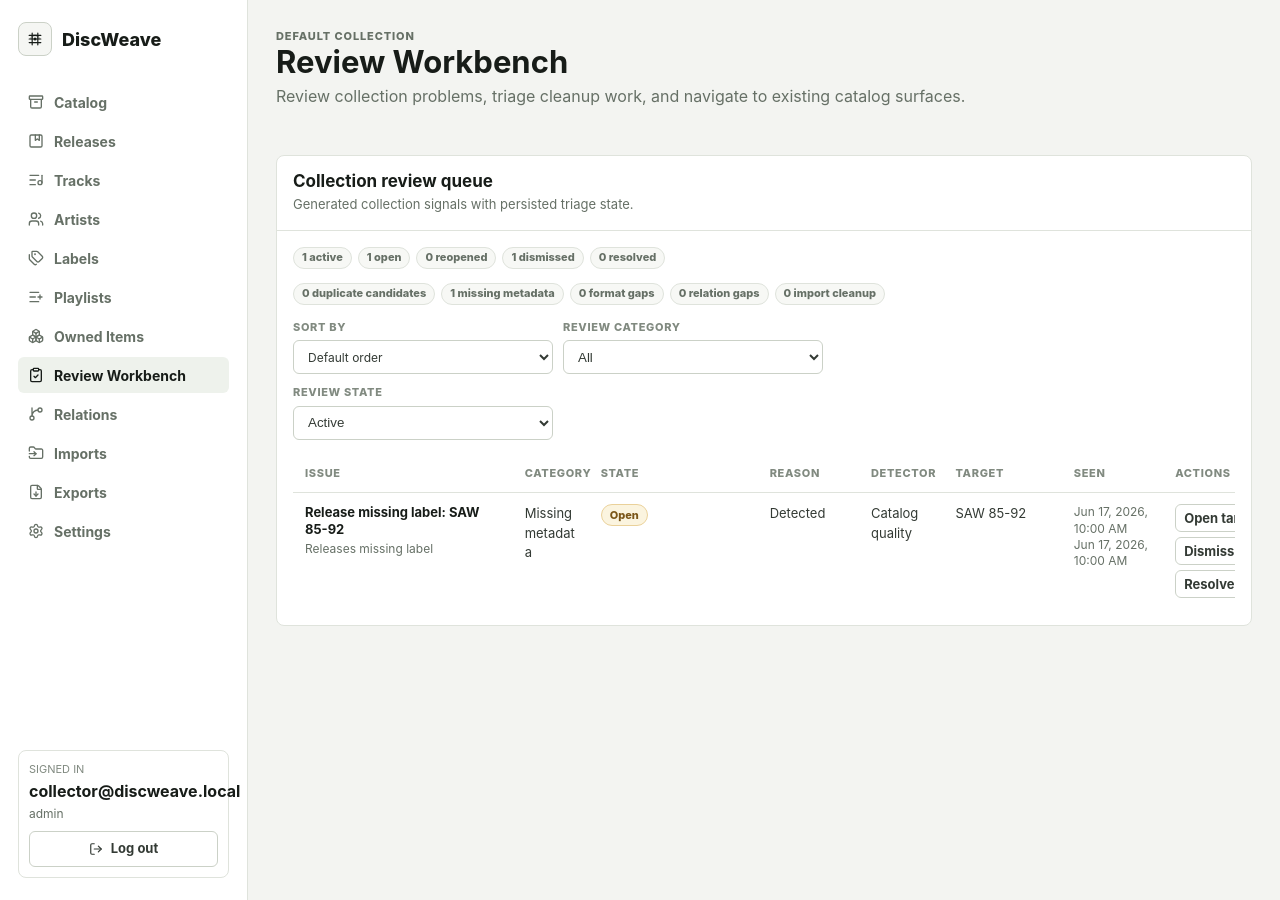
Review Workbench workspace › keeps category and state filters in the URL and reloads the queue
The image size is (1280, 900).
Check: the text "Release missing label: SAW 85-92" is shown, box [305,504,501,538]
Step 1. Select "Format gaps" in the dropdown labelled "Review category" → (693, 358), box [563,340,823,374]
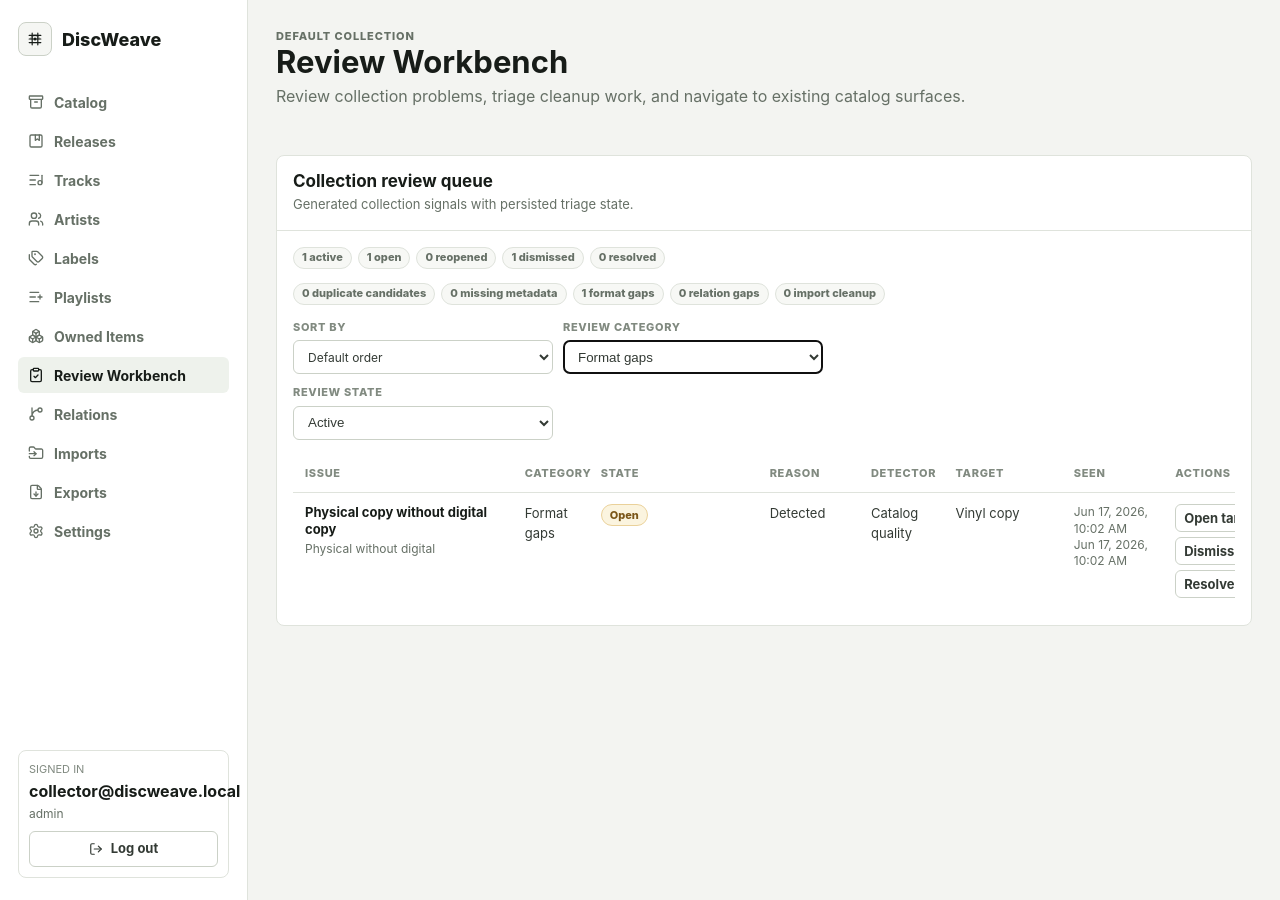
Check: the text "Physical copy without digital copy" is shown, box [305,504,501,538]
Step 2. Select "Dismissed" in the dropdown labelled "Review state" → (423, 423), box [293,406,553,440]
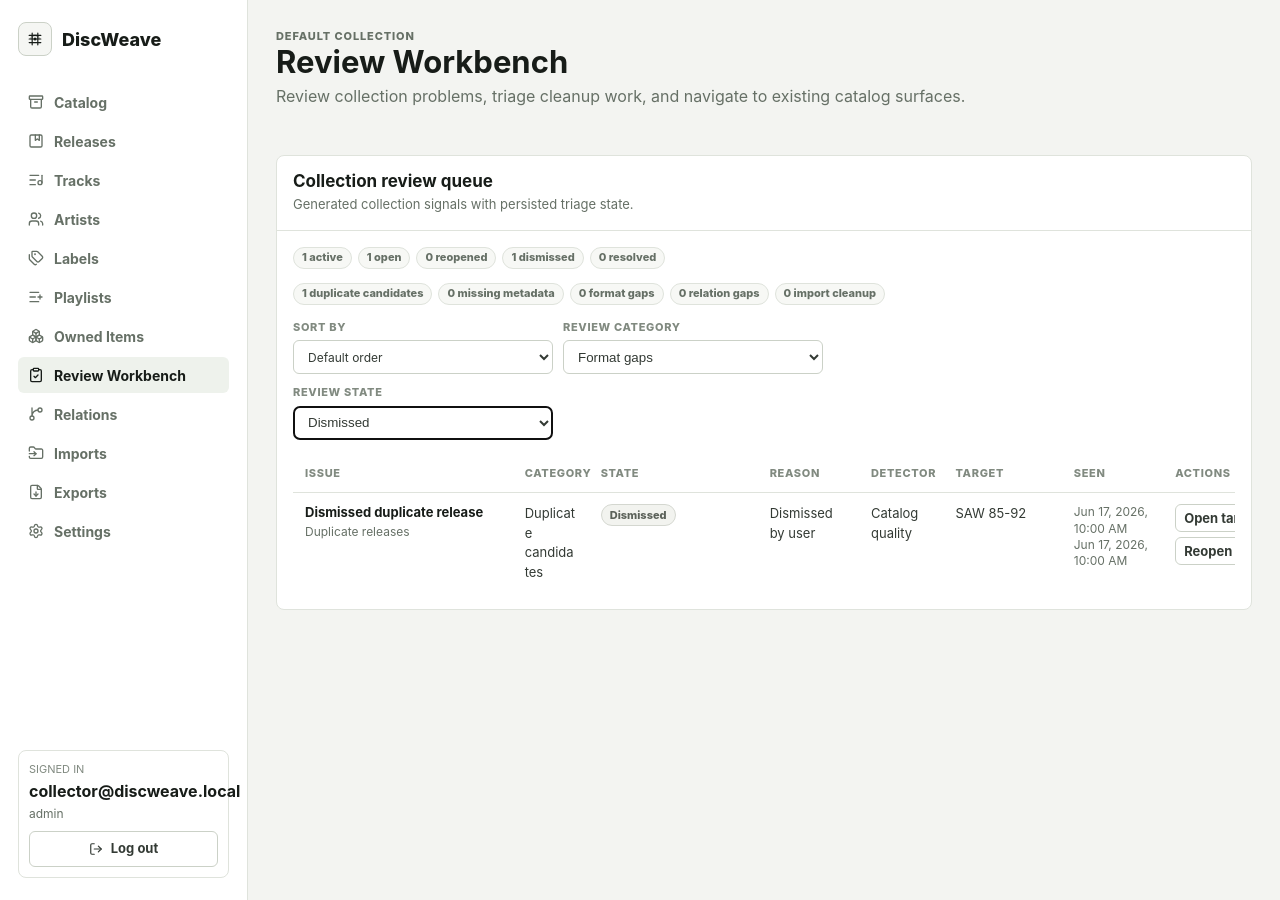
Check: the text "Dismissed duplicate release" is shown, box [305,504,501,521]
